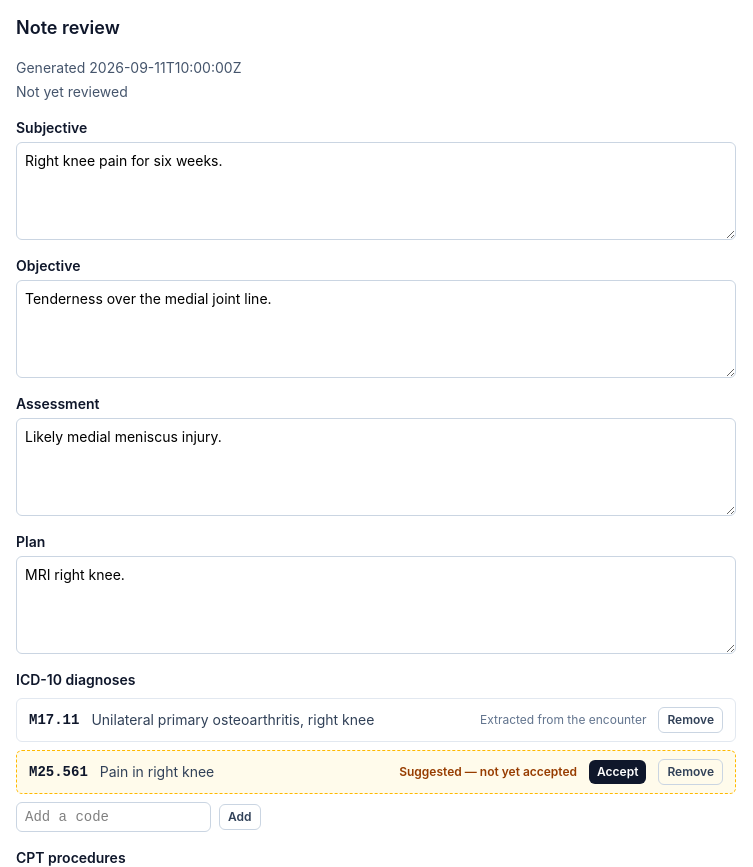
Test case: saving an edit › reports a refused save
Replace the text in the text box with test id "section-soapPlan" with "x" at [376, 605], box [16, 556, 736, 654]
(page scrolled)
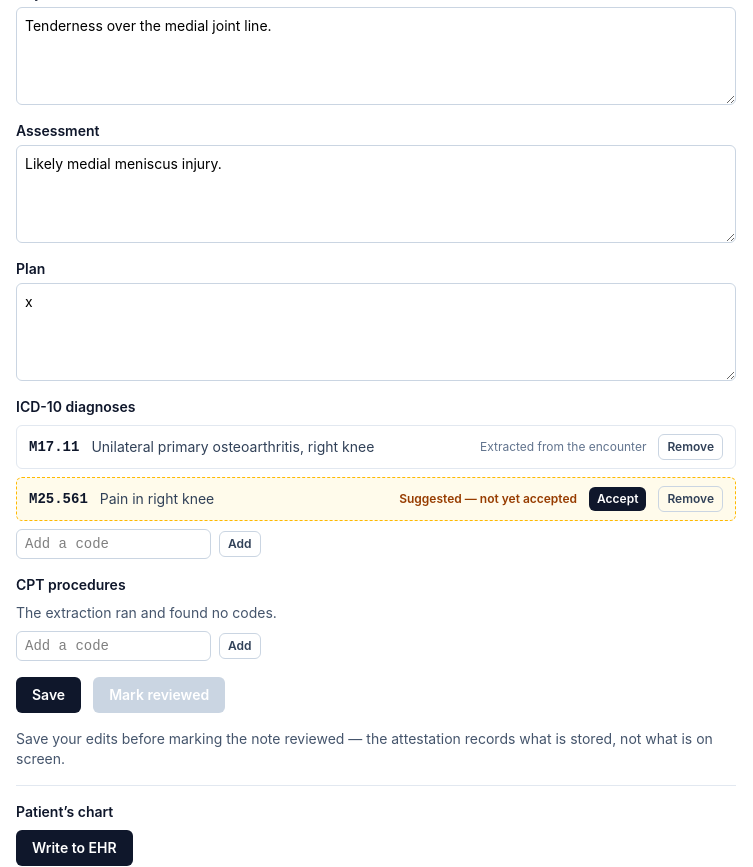
Click the button with test id "save-note" at [49, 695], box [16, 677, 81, 713]
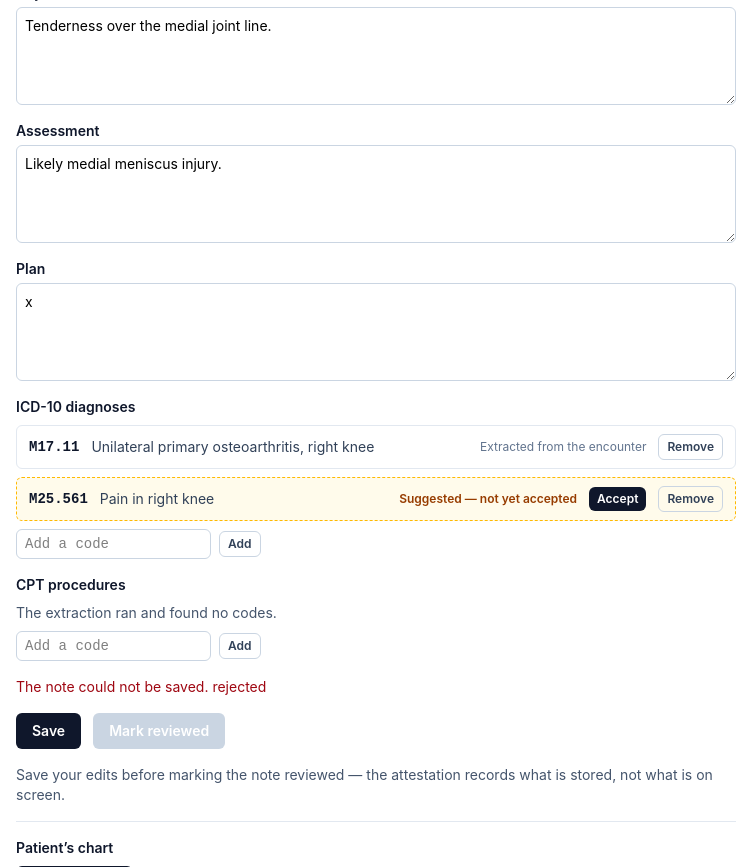
Check: the message with test id "save-error" shows "rejected", box [16, 678, 266, 695]
